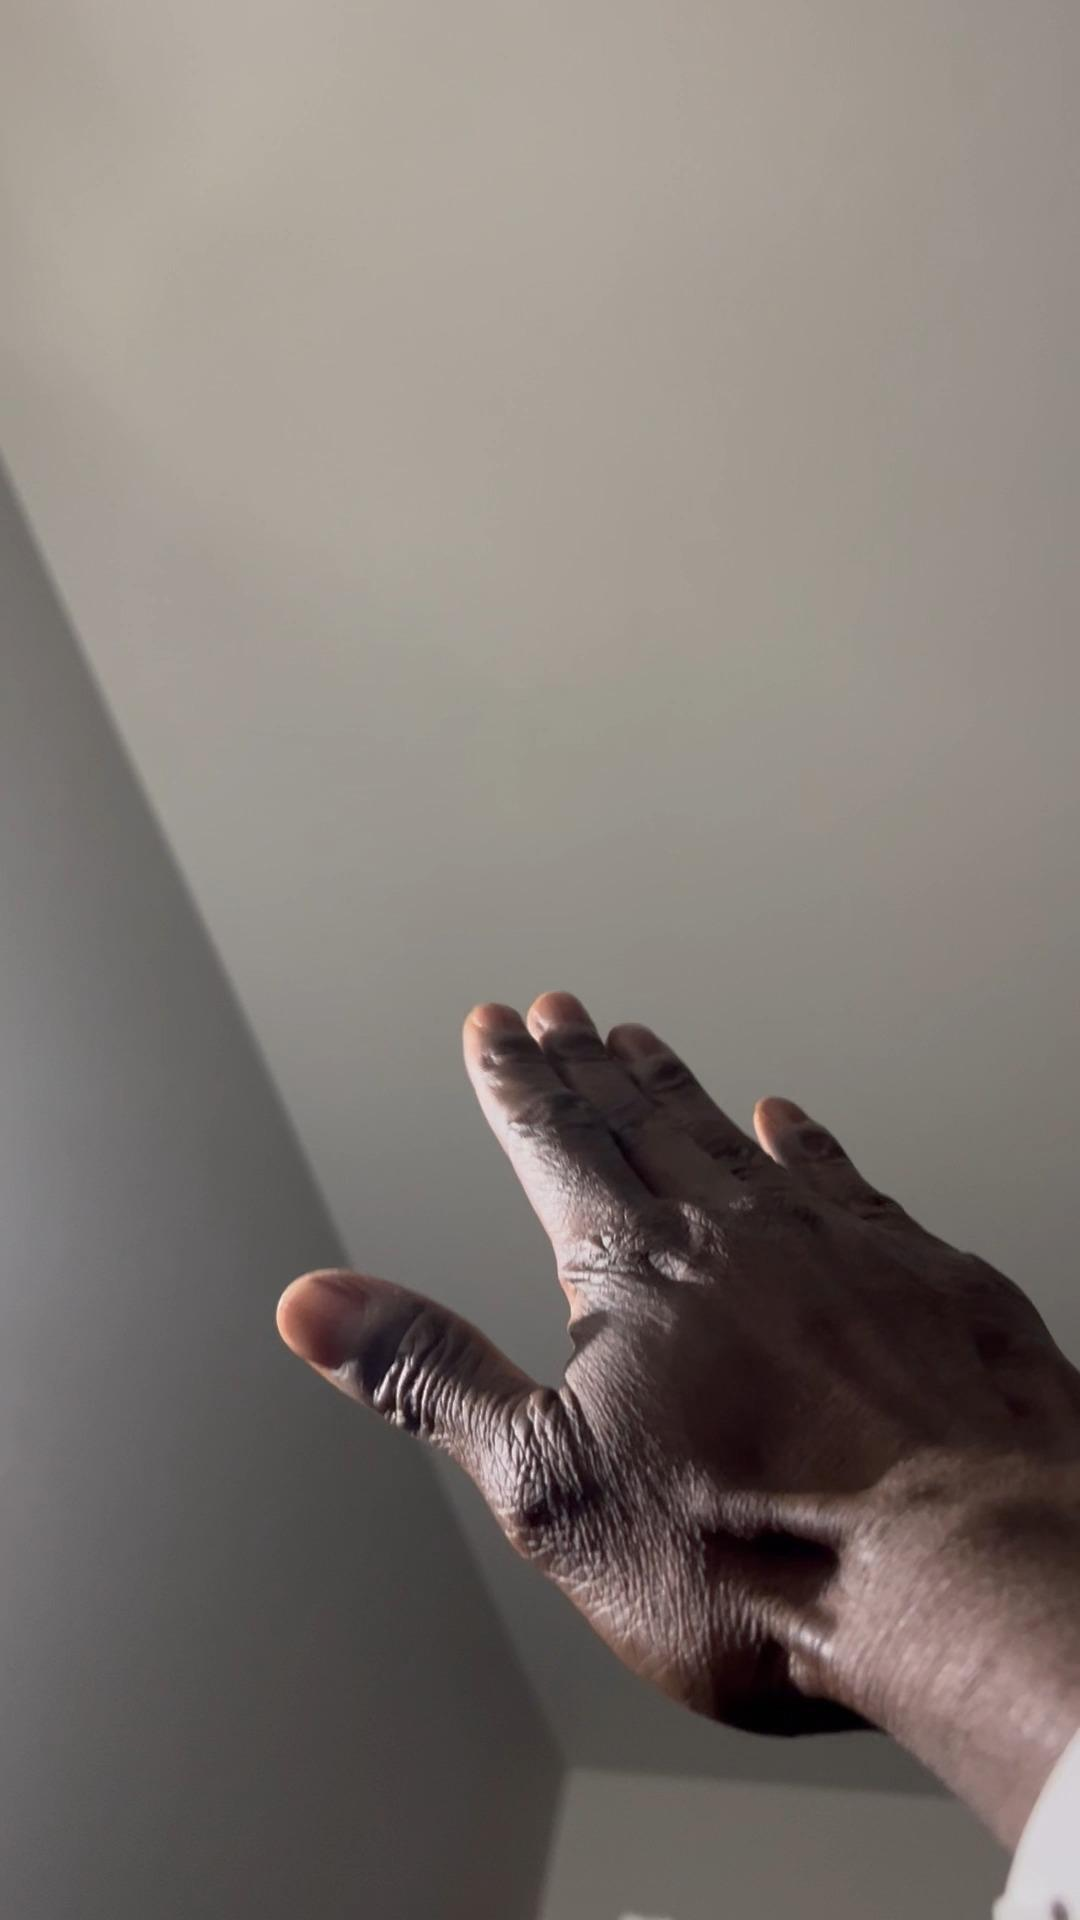Paper: (264, 984, 1080, 1751)
